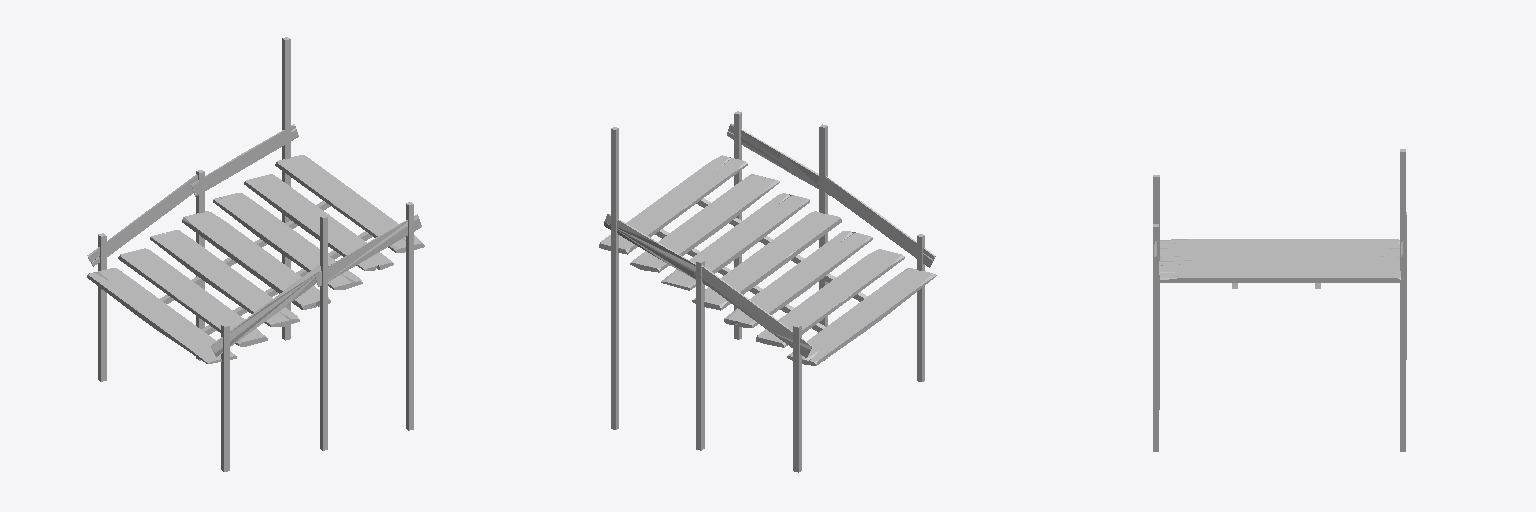
Rendered from Stairs.obj.
3 renders of one model, left to right at view 1: azimuth 30°, elevation 25°; view 2: azimuth 150°, elevation 25°; view 3: azimuth 270°, elevation 25°, orthographic.
Parts seen in each view (by area): view 1: Cube.044_Cube.069; view 2: Cube.044_Cube.069; view 3: Cube.044_Cube.069.
Part boxes in pixels (x1,y1,x2,y2): Cube.044_Cube.069: (87,37,424,471); Cube.044_Cube.069: (599,111,936,472); Cube.044_Cube.069: (1153,149,1406,451).
Bounding box in the file's own units: 3.14 × 4.15 × 3.19.